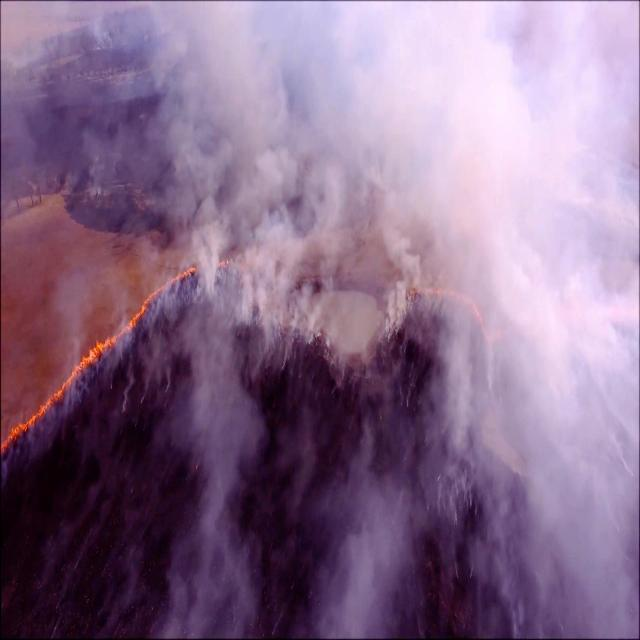Smoke: (520, 298, 640, 639), (348, 0, 518, 200), (501, 115, 640, 288), (175, 369, 255, 638), (530, 0, 640, 180), (172, 0, 290, 138), (327, 511, 385, 640), (241, 206, 296, 314), (190, 212, 220, 286)
